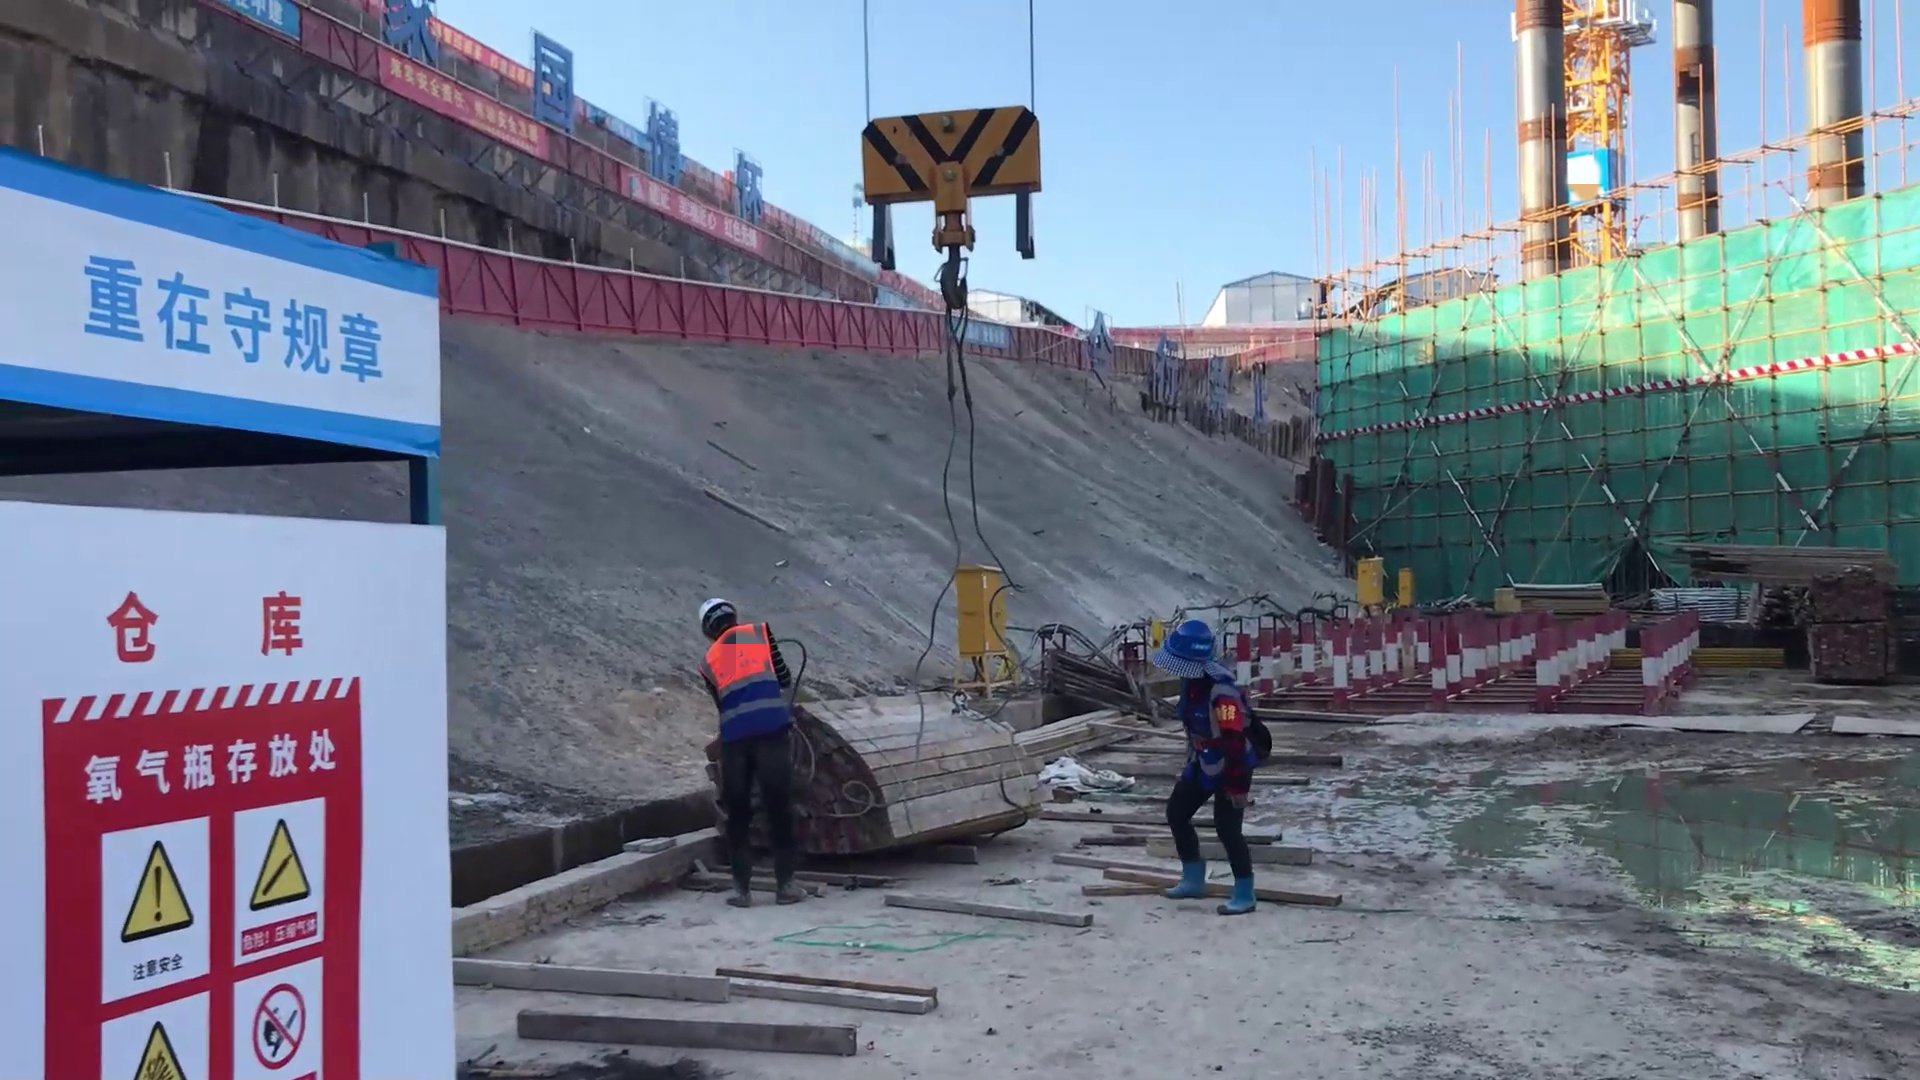ebox: (941, 529, 1044, 675), (1359, 557, 1389, 607), (1392, 564, 1415, 612)
fence: (421, 242, 762, 352), (762, 296, 941, 356)
helmet: (1165, 619, 1214, 670), (688, 593, 737, 633)
hook: (852, 109, 1056, 267)
person: (1141, 605, 1267, 922), (688, 602, 814, 900)
slogan: (56, 683, 400, 1080), (71, 241, 400, 407), (351, 38, 549, 192)
vest: (699, 631, 775, 692)
wood: (819, 702, 1048, 878), (1634, 526, 1897, 600)
